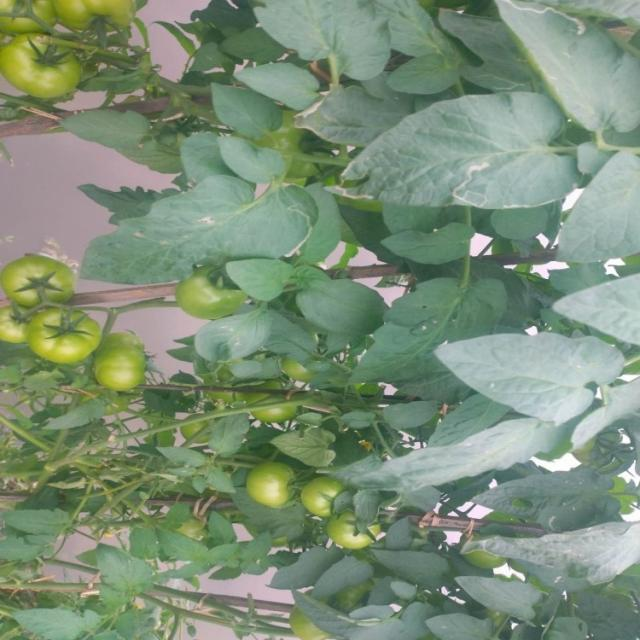tomato: (1, 32, 83, 113), (25, 301, 106, 367), (1, 247, 82, 307), (175, 261, 246, 329), (91, 326, 160, 393), (323, 510, 384, 564), (49, 1, 138, 35), (249, 463, 296, 510), (1, 1, 63, 36), (300, 471, 342, 521), (250, 392, 302, 431), (1, 304, 30, 344), (182, 415, 212, 443)
